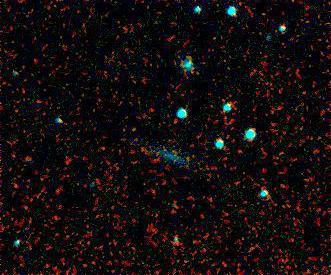star: (141, 166, 171, 196)
